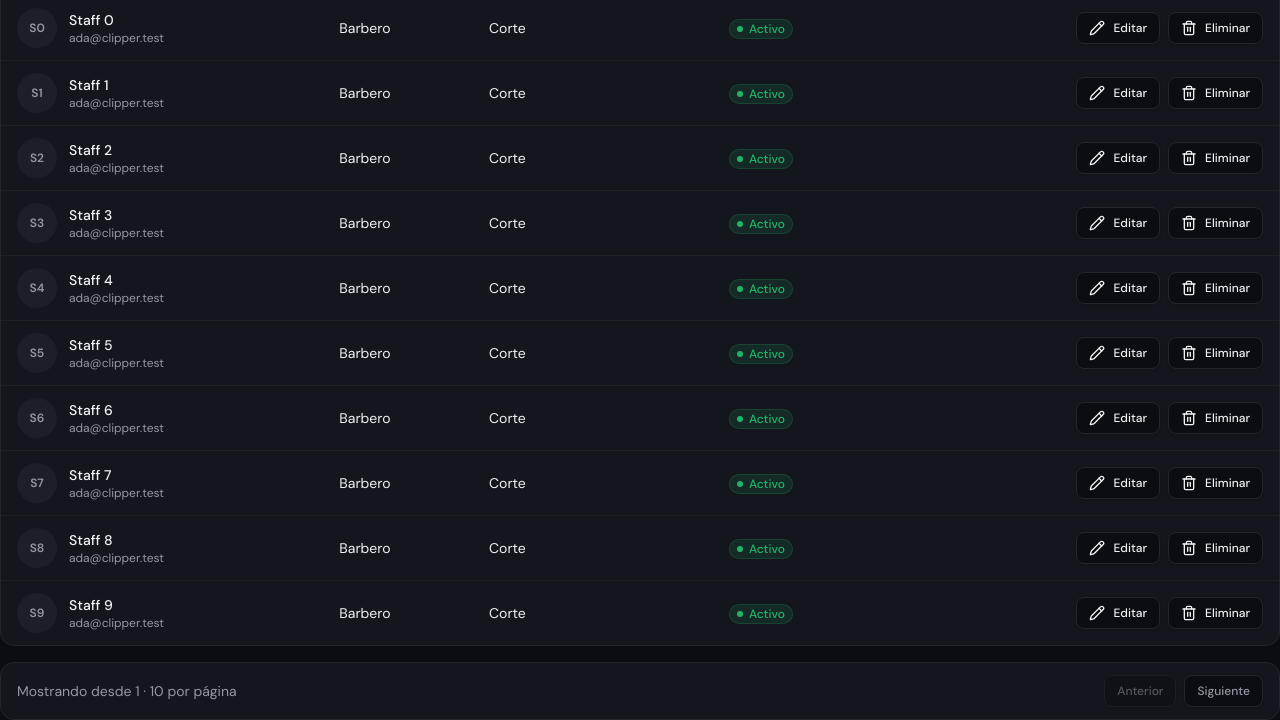
Test: StaffCrudPage › requests the next offset when clicking Next
(page scrolled)
Expected: the text "Staff 0" is shown, [69, 11, 114, 29]
Click the button "Siguiente": (1224, 691) [1184, 675, 1263, 707]
(page scrolled)
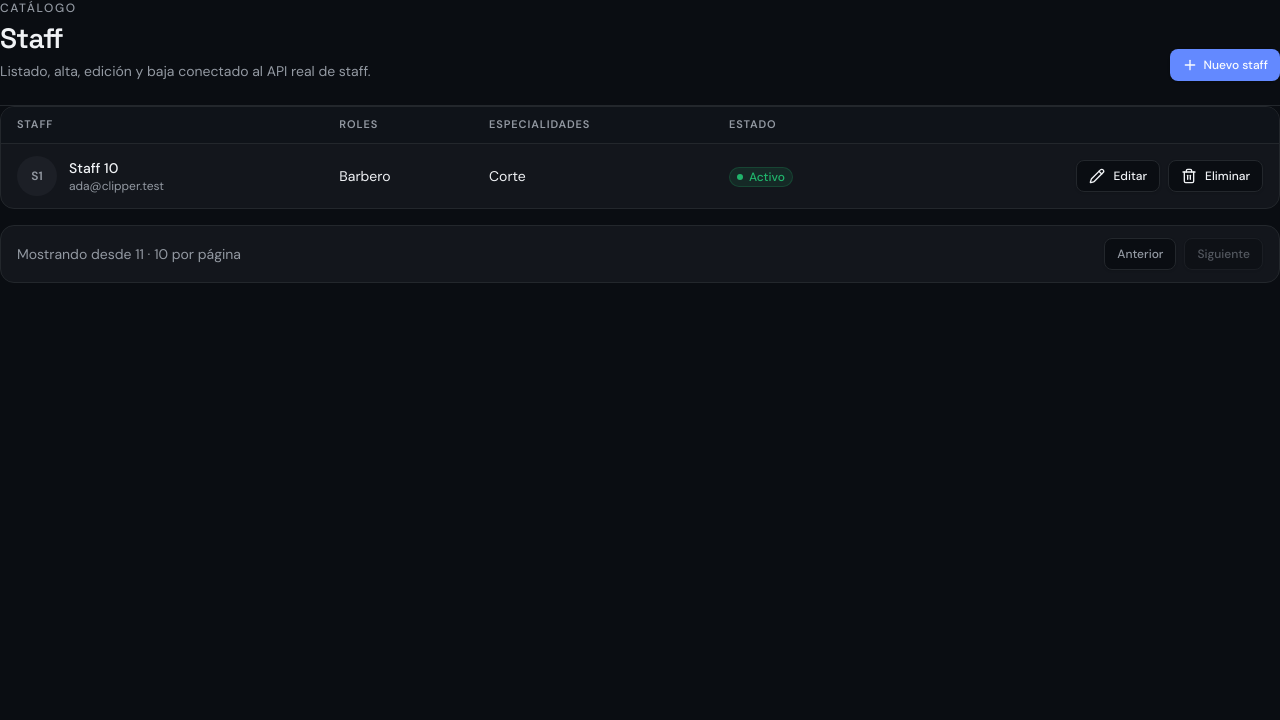
Expected: the text "Staff 10" is shown, [69, 159, 118, 177]
